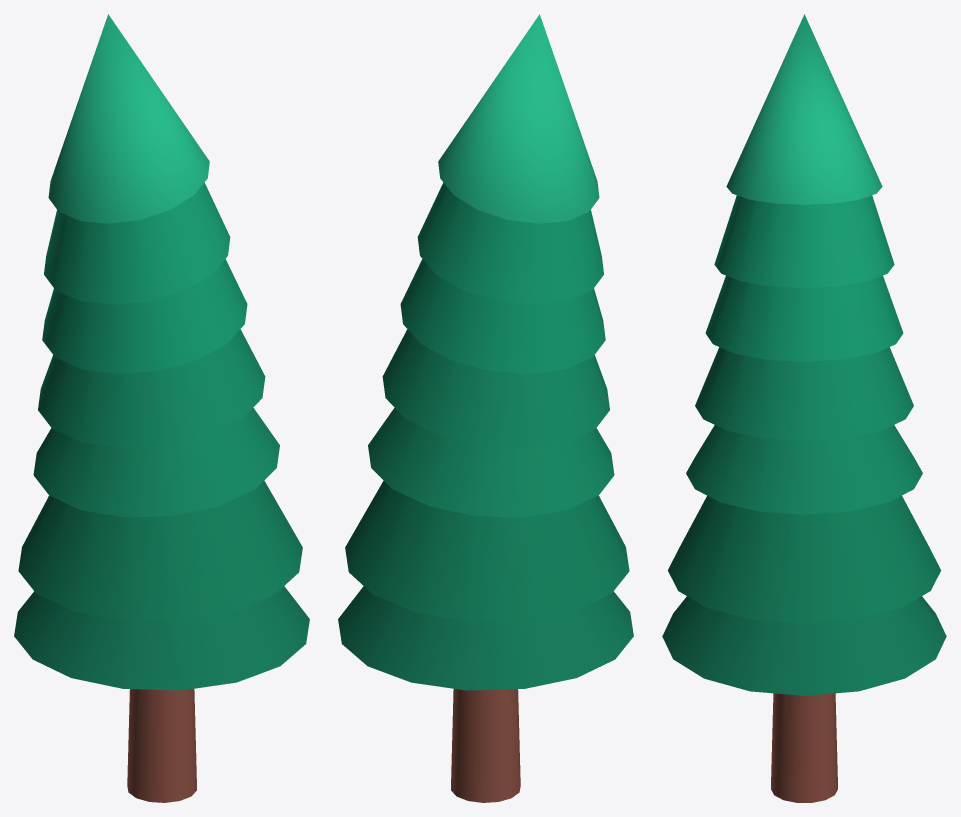
The model's file is Spruce_Cold_Turquoise_Thin_4.fbx.
3 views of the same model, side by side, from view 1: azimuth 30°, elevation 25°; view 2: azimuth 150°, elevation 25°; view 3: azimuth 270°, elevation 25° (orthographic). The views are drawn at different scales.
Visible parts, largest first — view 1: Cylinder.154, Cylinder.155, Cylinder.153, Cylinder.152, Cylinder.150, Cylinder.157, Cylinder.151, Cylinder.156; view 2: Cylinder.154, Cylinder.155, Cylinder.153, Cylinder.152, Cylinder.150, Cylinder.157, Cylinder.151, Cylinder.156; view 3: Cylinder.154, Cylinder.155, Cylinder.153, Cylinder.152, Cylinder.150, Cylinder.157, Cylinder.151, Cylinder.156.
Boxes of the visible parts, x1,y1,x2,y2 form: Cylinder.154: (18,480,302,621); Cylinder.155: (14,586,309,690); Cylinder.153: (48,14,209,223); Cylinder.152: (33,408,279,517); Cylinder.150: (38,329,265,448); Cylinder.157: (44,182,230,304); Cylinder.151: (42,259,247,373); Cylinder.156: (127,689,196,802); Cylinder.154: (345,480,629,621); Cylinder.155: (338,586,633,690); Cylinder.153: (438,14,599,223); Cylinder.152: (368,408,614,517); Cylinder.150: (382,329,609,448); Cylinder.157: (417,182,603,304); Cylinder.151: (400,259,605,373); Cylinder.156: (451,689,520,802); Cylinder.154: (668,495,940,623); Cylinder.155: (662,596,946,695); Cylinder.153: (726,14,882,204); Cylinder.152: (686,425,922,514); Cylinder.150: (695,347,913,440); Cylinder.157: (714,195,894,287); Cylinder.151: (705,275,903,361); Cylinder.156: (771,693,837,802).
Size of the model in its own units: 195 by 569 by 195.
